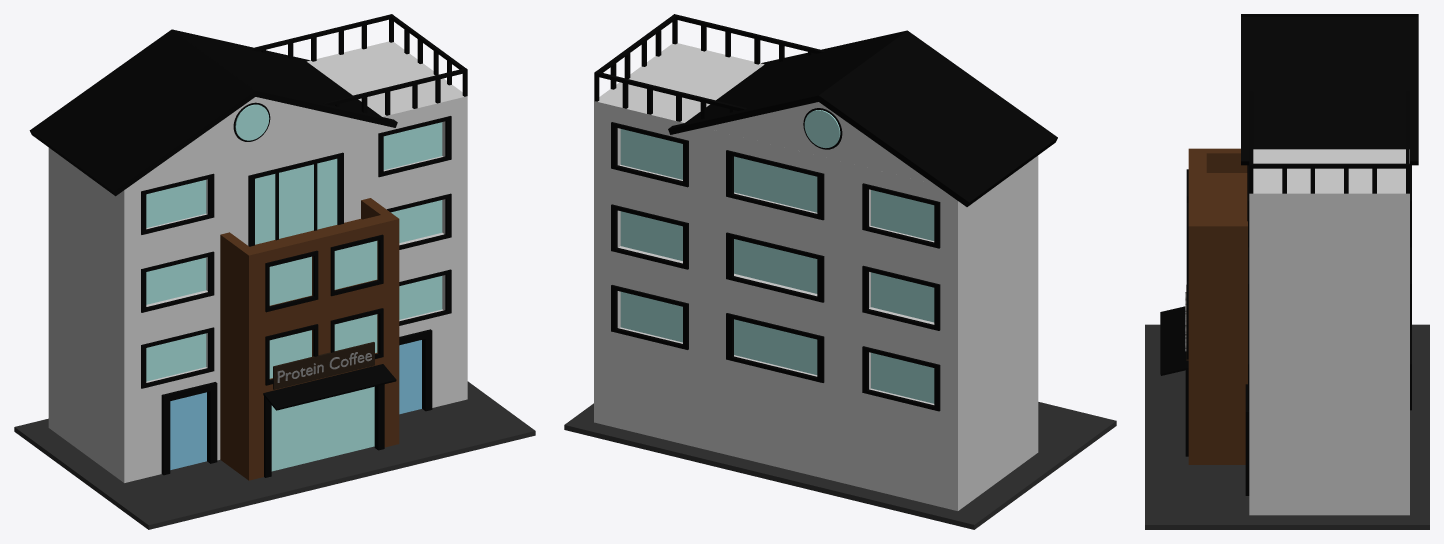
File: coffee.fbx
3 renders of one model, left to right at view 1: azimuth 30°, elevation 25°; view 2: azimuth 150°, elevation 25°; view 3: azimuth 270°, elevation 25°, orthographic. The views are drawn at different scales.
Visible parts, largest first — view 1: Cube.001, Cube.002, Cube, Cube.032, Cube.033, Cube.007, Cube.044, Cube.019, Cube.045, Cube.031, Cube.005, Cube.050 (+25 smaller); view 2: Cube.001, Cube.032, Cube, Cube.048, Cube.033, Cube.046, Cube.047, Cube.031, Cube.028, Cube.029, Cube.030, Cube.036 (+9 smaller); view 3: Cube.001, Cube.033, Cube.002, Cube, Cube.005, Cube.034, Cube.032, Cube.020, Cube.036, Cube.038, Cube.004.
Boxes of the visible parts, x1,y1,x2,y2 form: Cube.001: (48, 41, 467, 482); Cube.002: (220, 198, 399, 480); Cube: (14, 381, 535, 529); Cube.032: (29, 29, 255, 196); Cube.033: (172, 29, 397, 127); Cube.007: (271, 386, 374, 471); Cube.044: (146, 180, 206, 381); Cube.019: (255, 158, 337, 244); Cube.045: (383, 122, 442, 319); Cube.031: (146, 97, 364, 174); Cube.005: (263, 364, 396, 410); Cube.050: (170, 392, 206, 469); Cube.001: (594, 43, 1038, 510); Cube.032: (819, 30, 1057, 206); Cube: (564, 402, 1116, 529); Cube.048: (734, 156, 817, 374); Cube.033: (668, 30, 906, 134); Cube.046: (871, 190, 934, 403); Cube.047: (620, 129, 682, 342); Cube.031: (704, 102, 933, 183); Cube.028: (726, 232, 824, 302); Cube.029: (726, 150, 824, 220); Cube.030: (726, 313, 824, 382); Cube.036: (672, 14, 824, 64); Cube.001: (1249, 149, 1409, 515); Cube.033: (1241, 17, 1418, 165); Cube.002: (1188, 148, 1247, 464); Cube: (1145, 324, 1429, 529); Cube.005: (1160, 306, 1188, 375); Cube.034: (1249, 163, 1405, 193); Cube.032: (1241, 14, 1418, 16); Cube.020: (1245, 384, 1249, 495); Cube.036: (1249, 91, 1253, 193); Cube.038: (1406, 91, 1409, 193); Cube.004: (1185, 369, 1188, 456).
Bounding box in the file's own units: 4413 × 4212 × 2652.
